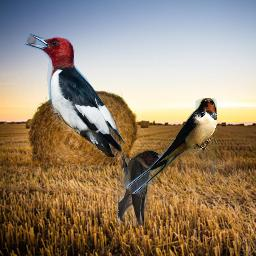Swallow: (126, 98, 217, 194), (116, 150, 162, 226)
Woodpecker: (24, 31, 128, 157)
